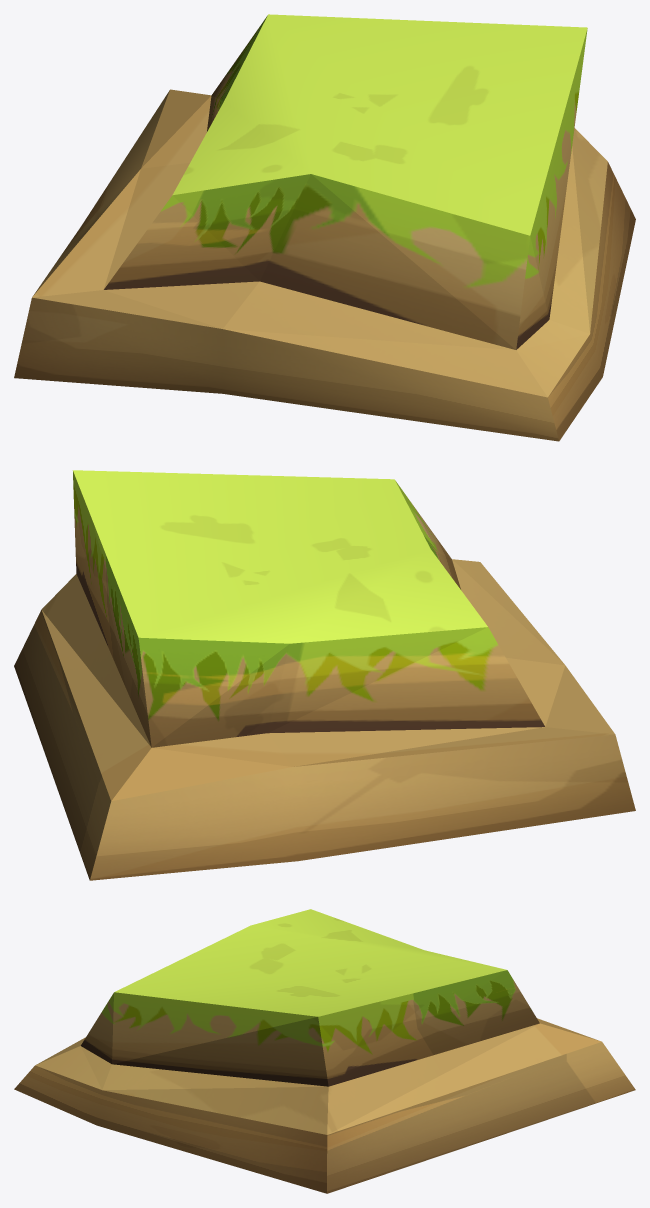
Rendered from F_W_O_rock_010.fbx.
3 views of the same model, one above another, from view 1: azimuth 30°, elevation 25°; view 2: azimuth 150°, elevation 25°; view 3: azimuth 270°, elevation 25° (orthographic). The views are drawn at different scales.
Parts seen in each view (by area): view 1: F_W_O_rock_010; view 2: F_W_O_rock_010; view 3: F_W_O_rock_010.
Part boxes in pixels (left/top/right/bottom): F_W_O_rock_010: left=14, top=14, right=635, bottom=441; F_W_O_rock_010: left=14, top=470, right=635, bottom=880; F_W_O_rock_010: left=14, top=909, right=635, bottom=1193.
Size of the model in its own units: 5.52 by 1.75 by 6.29.
